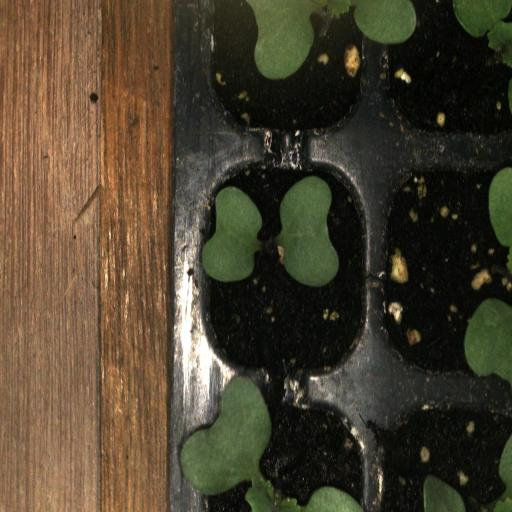seedling: (190, 146, 376, 383), (194, 0, 376, 147), (193, 384, 376, 512)
